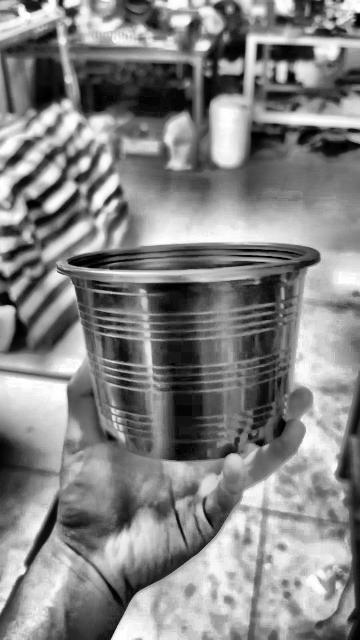pot: (57, 243, 319, 460)
